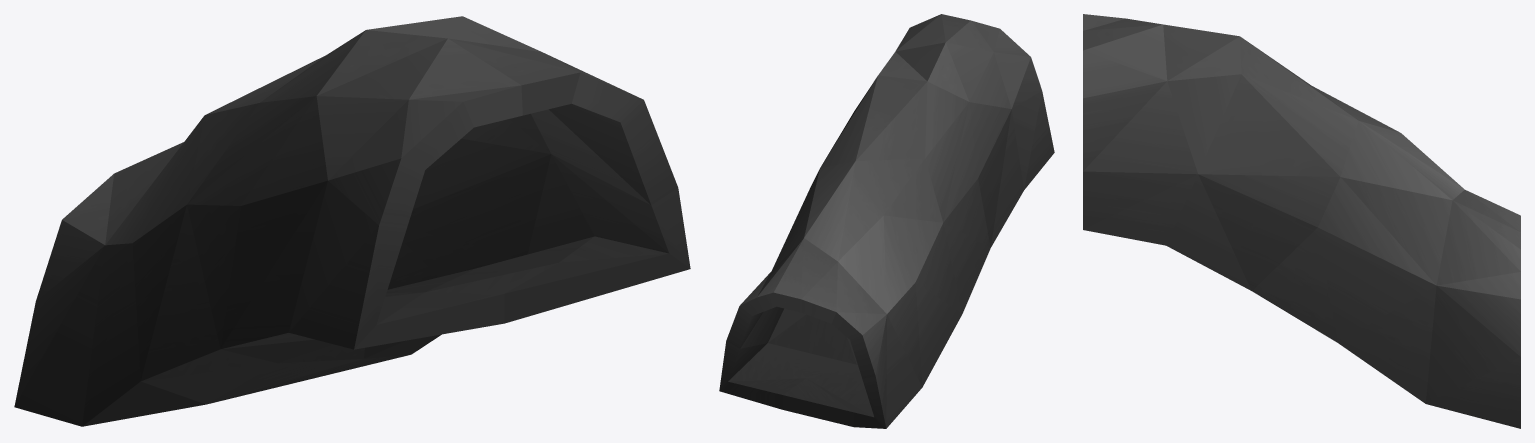
Rendered from GL-Cave-part-04-LOD3.fbx.
The picture shows the model from 3 angles, left to right: view 1: azimuth 30°, elevation 25°; view 2: azimuth 150°, elevation 25°; view 3: azimuth 270°, elevation 25°; orthographic projection. The views are drawn at different scales.
Visible parts, largest first — view 1: GL_Cave_part_04; view 2: GL_Cave_part_04; view 3: GL_Cave_part_04.
Boxes of the visible parts, x1,y1,x2,y2 form: GL_Cave_part_04: (14,16,690,426); GL_Cave_part_04: (719,14,1054,428); GL_Cave_part_04: (1083,14,1520,428).
Bounding box in the file's own units: 3.6 × 5.33 × 6.
